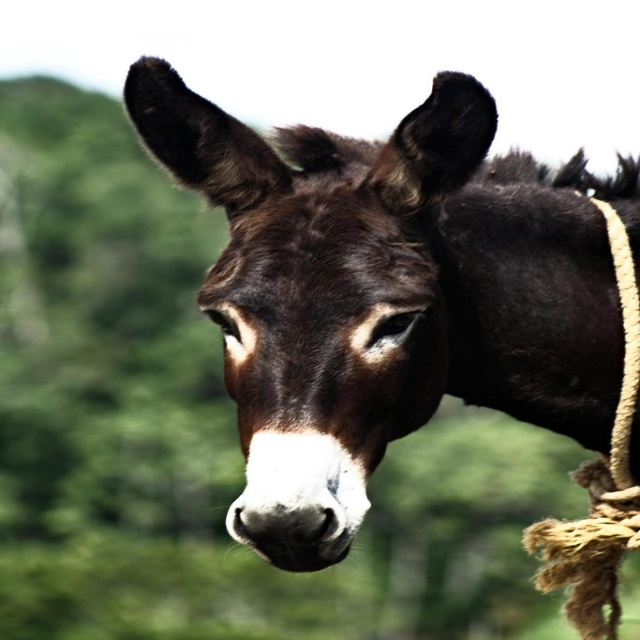Mule: (121, 54, 640, 579)
